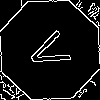V: (25, 25, 81, 75)
